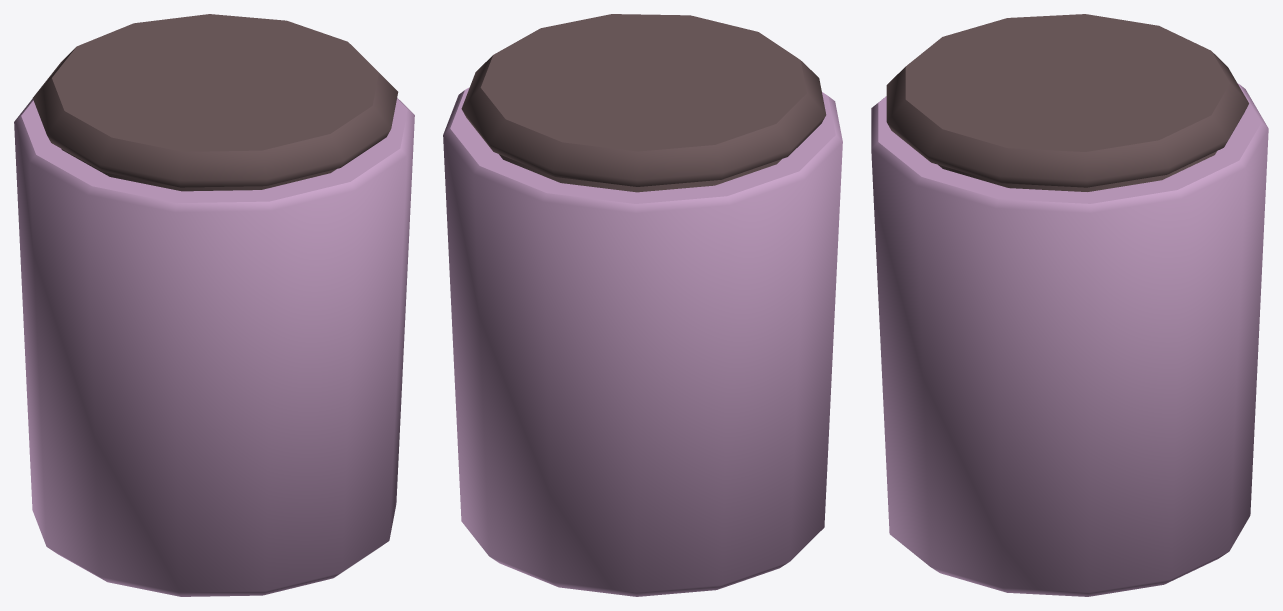
3 renders of one model, left to right at view 1: azimuth 30°, elevation 25°; view 2: azimuth 150°, elevation 25°; view 3: azimuth 270°, elevation 25°, orthographic.
Visible parts, largest first — view 1: Box2; view 2: Box2; view 3: Box2.
Part boxes in pixels (x1,y1,x2,y2): Box2: [14, 14, 414, 596]; Box2: [443, 14, 842, 596]; Box2: [871, 14, 1268, 596].
Size of the model in its own units: 18.57 by 18.43 by 22.64.
